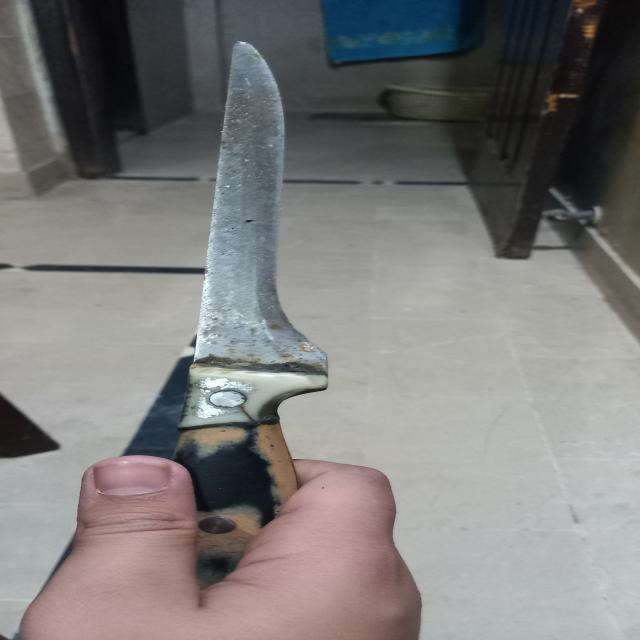weapon: (147, 35, 337, 592)
